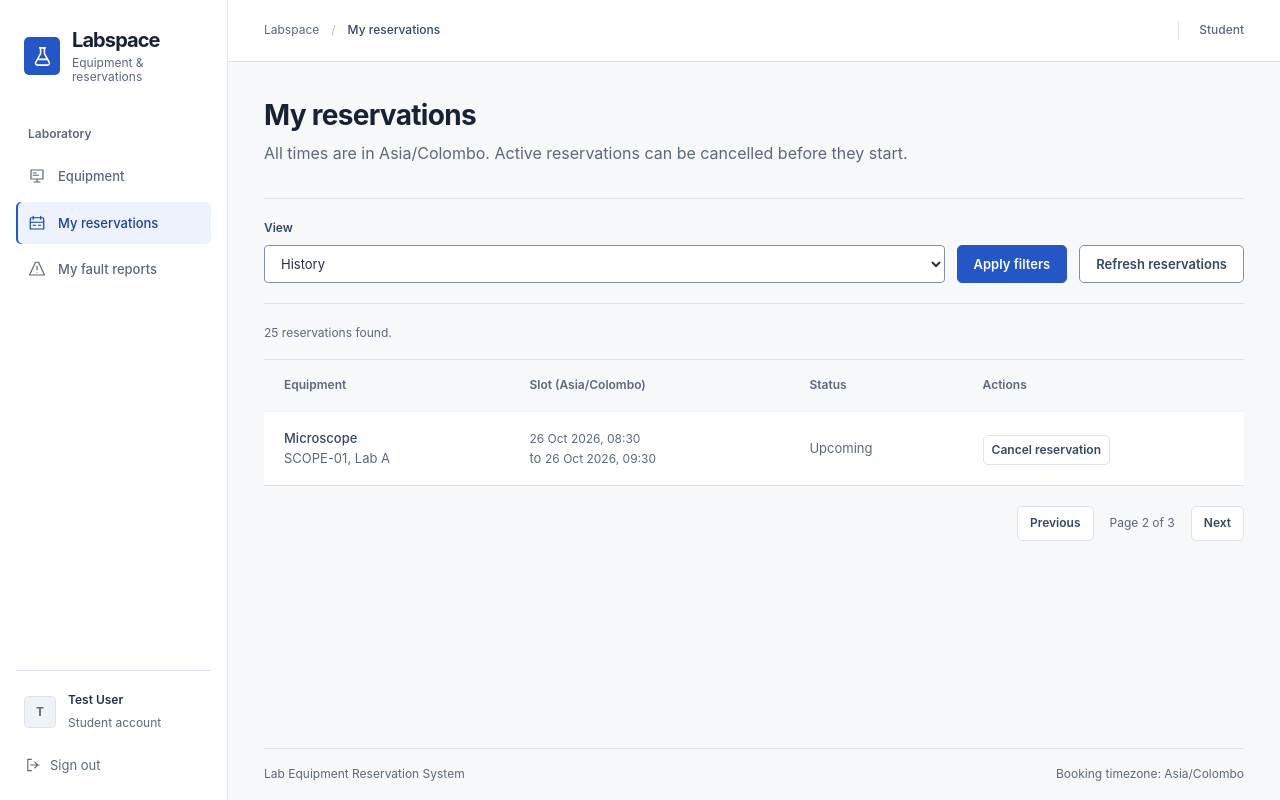
student view filters and pagination retain the selected view and reset page on a new filter
This screenshot has width=1280, height=800.
Expected: the text "25 reservations found." is shown, [264,325,392,340]
Step 1. Click the button "Next" → (1217, 524), box [1191,506,1244,541]
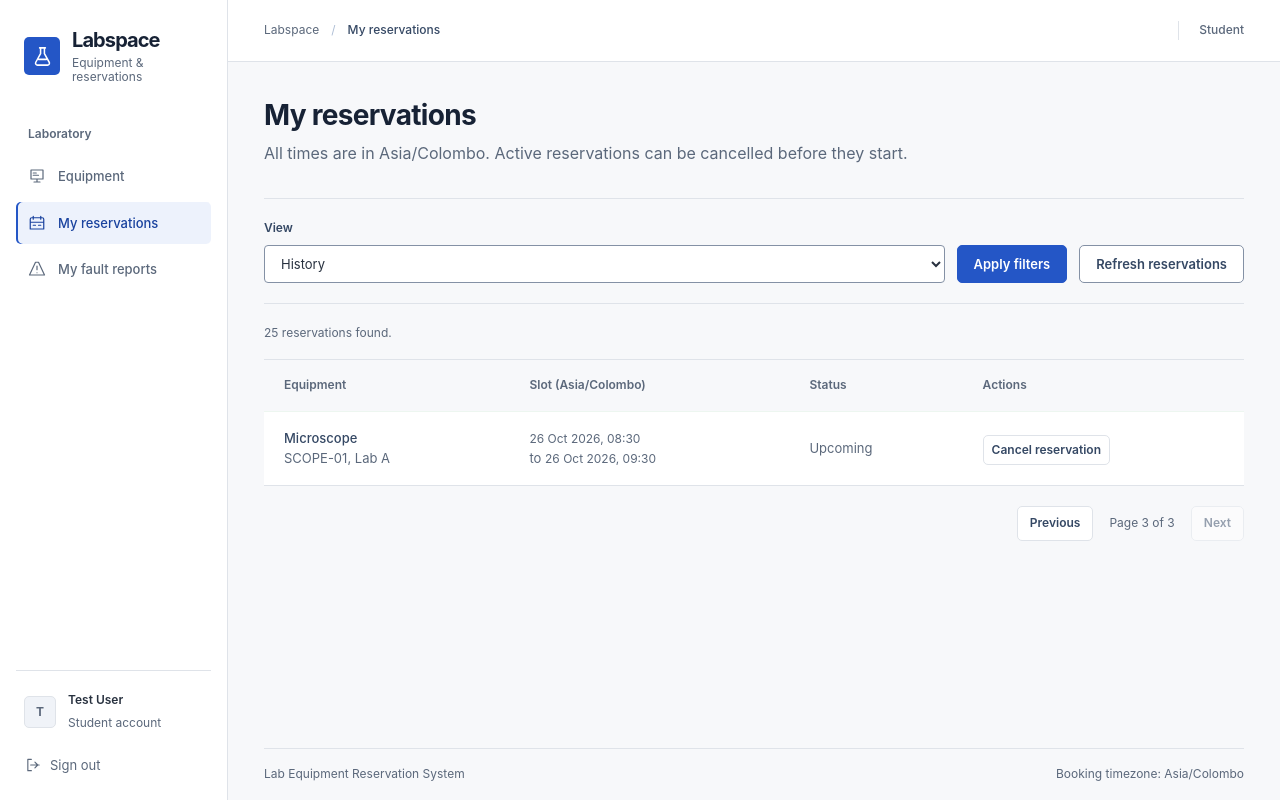
Expected: the text "Page 3 of 3" is shown, [1109,514,1175,533]
Step 2. Select "All" in the dropdown labelled "View" → (604, 264), box [264,245,944,283]
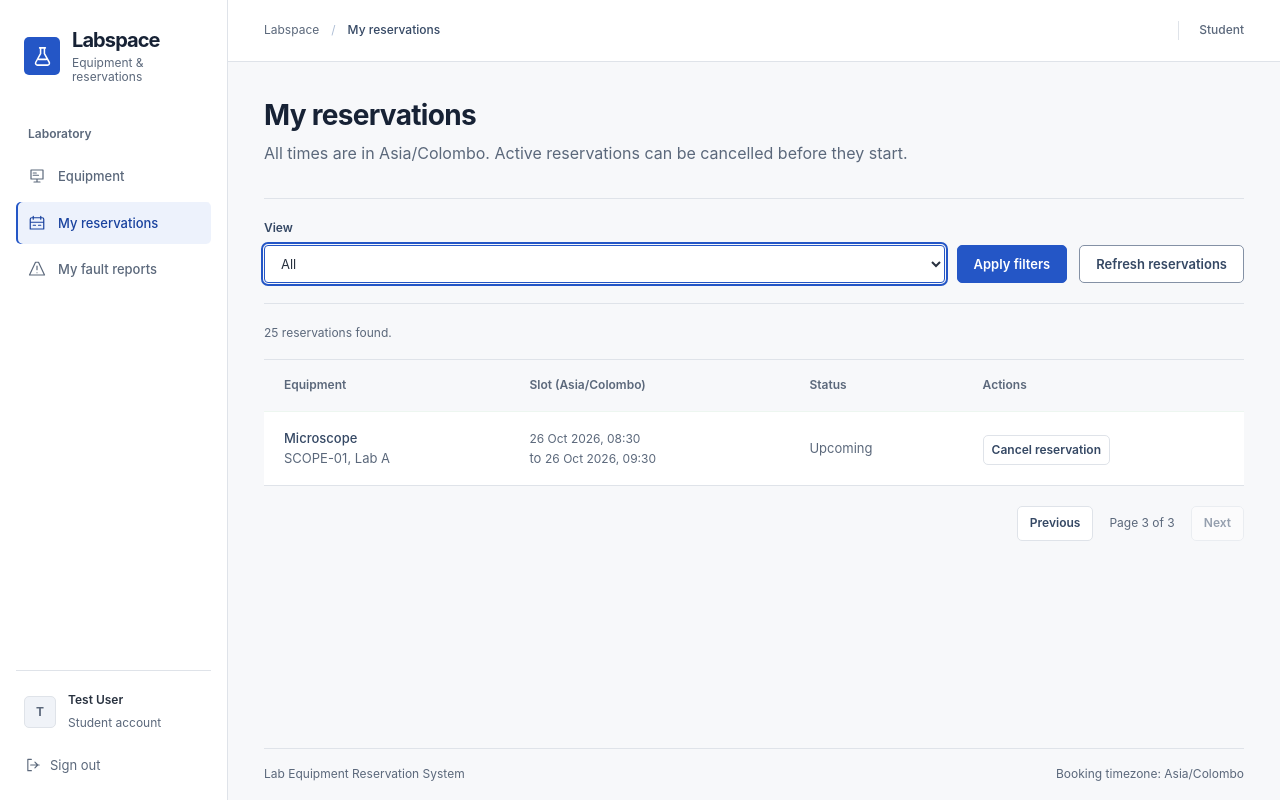
Step 3. Click the button "Apply filters" → (1012, 264), box [956,245,1067,283]
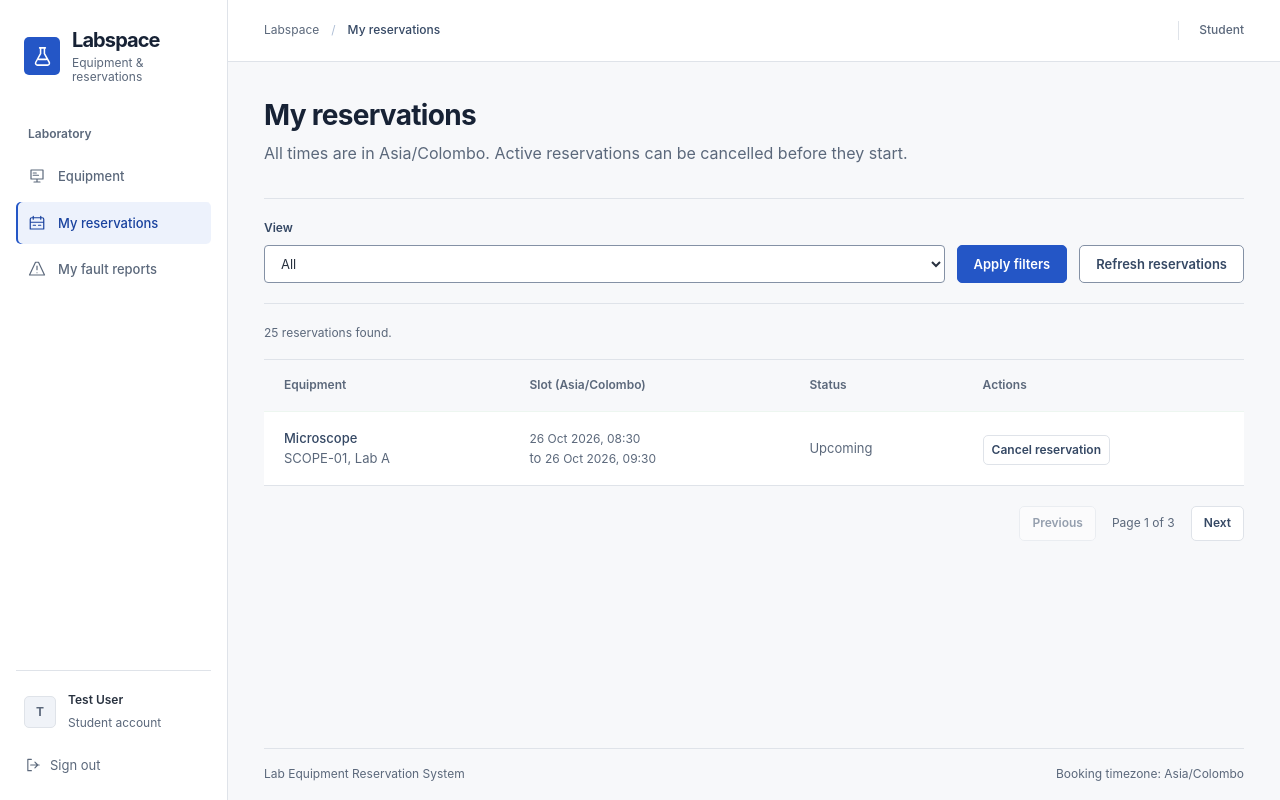
Expected: the text "Page 1 of 3" is shown, [1112,514,1175,533]
